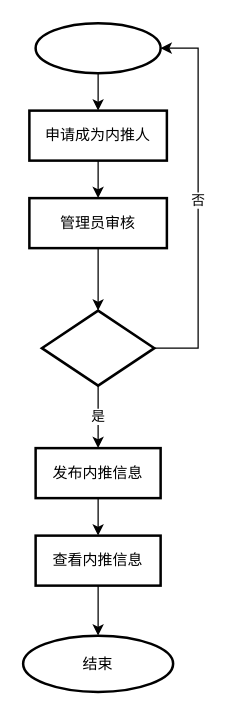
The diagram is 230 pixels wide and 714 high, and some of its shapes have lost their labels. Here are the shapes that lost their labels. From the top down, the centre of each, then its label:
At (97,47): "开始".
At (97,347): "审核通过".
